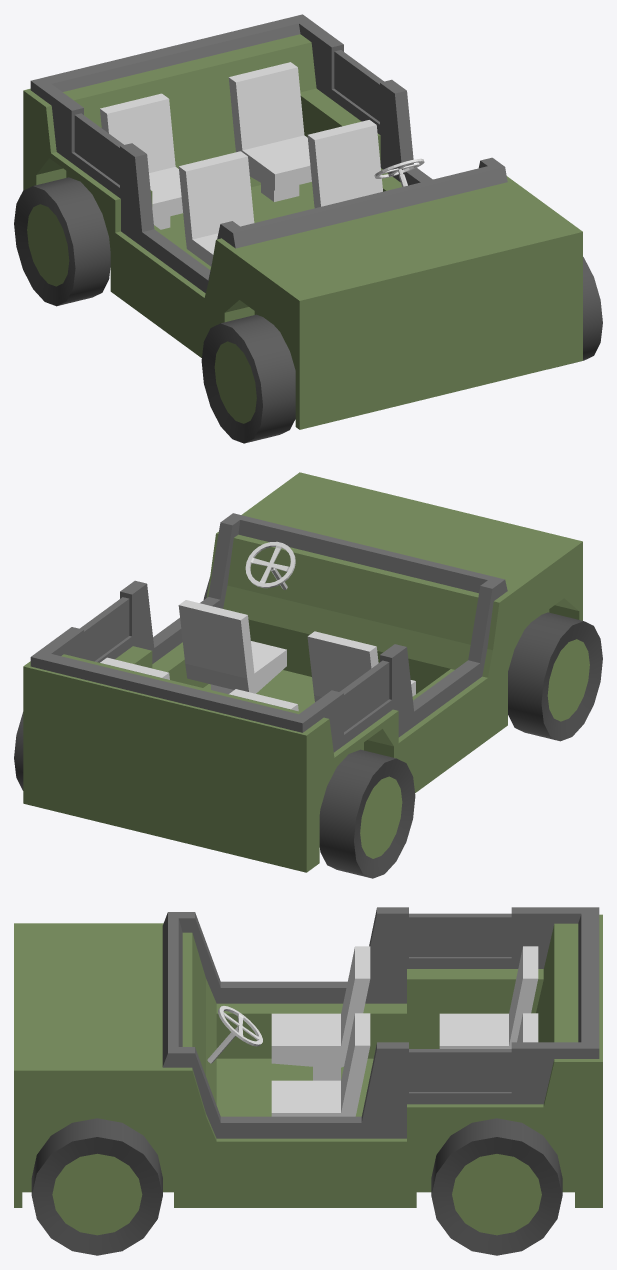
File: jeep.fbx
3 views of the same model, one above another, from view 1: azimuth 30°, elevation 25°; view 2: azimuth 150°, elevation 25°; view 3: azimuth 270°, elevation 25° (orthographic). The views are drawn at different scales.
Visible parts, largest first — view 1: Hull, Wheel BR, Wheel FR, Seat BL, Seat FR, Seat BR, Seat FL, Wheel FL; view 2: Hull, Wheel BR, Wheel FR, Seat FL, Seat FR, Steering Wheel, Wheel BL; view 3: Hull, Wheel FL, Wheel BL, Seat FR, Seat FL, Seat BR, Steering Wheel, Seat BL.
Part boxes in pixels (bbox=[...]): Hull: bbox=[23, 14, 582, 429]; Wheel BR: bbox=[14, 177, 110, 306]; Wheel FR: bbox=[201, 314, 295, 443]; Seat BL: bbox=[228, 62, 311, 201]; Seat FR: bbox=[178, 151, 254, 266]; Seat BR: bbox=[100, 93, 182, 229]; Seat FL: bbox=[307, 120, 382, 208]; Wheel FL: bbox=[557, 257, 602, 367]; Hull: bbox=[23, 472, 582, 872]; Wheel BR: bbox=[319, 749, 415, 878]; Wheel FR: bbox=[508, 612, 602, 741]; Seat FL: bbox=[178, 600, 286, 694]; Seat FR: bbox=[307, 631, 415, 701]; Steering Wheel: bbox=[245, 541, 295, 590]; Wheel BL: bbox=[14, 712, 23, 790]; Hull: bbox=[14, 907, 602, 1207]; Wheel FL: bbox=[31, 1118, 162, 1255]; Wheel BL: bbox=[431, 1118, 562, 1255]; Seat FR: bbox=[271, 946, 370, 1080]; Seat FL: bbox=[271, 1013, 370, 1116]; Seat BR: bbox=[439, 946, 538, 1048]; Steering Wheel: bbox=[207, 1006, 262, 1063]; Seat BL: bbox=[517, 1013, 538, 1042].
Size of the model in its own units: 2.64 by 1.33 by 3.72.
